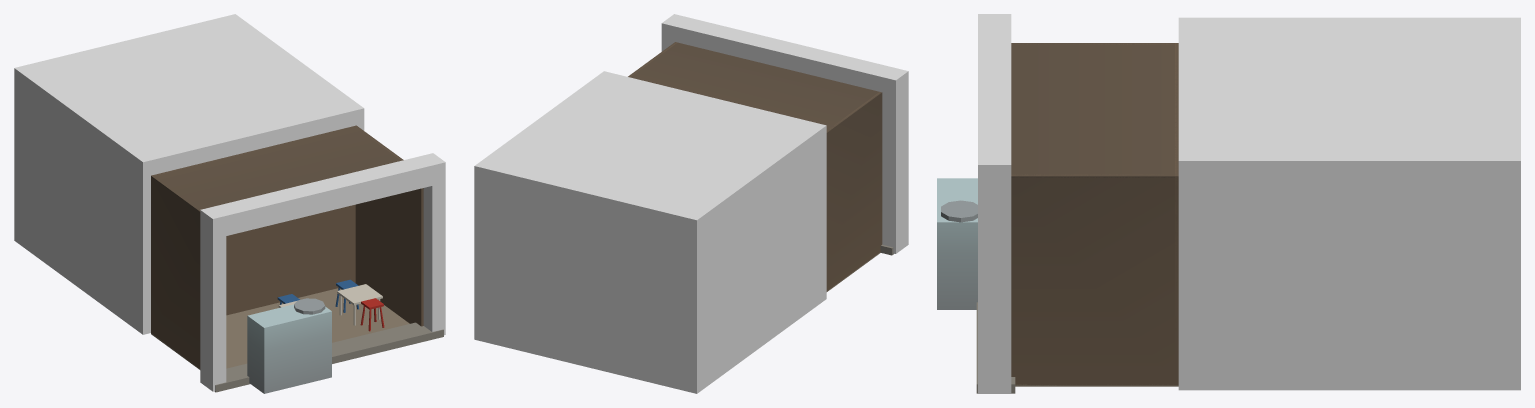
Rendered from tret_quan_pho_48.glb.
The picture shows the model from 3 angles, left to right: view 1: azimuth 30°, elevation 25°; view 2: azimuth 150°, elevation 25°; view 3: azimuth 270°, elevation 25°; orthographic projection. The views are drawn at different scales.
Visible parts, largest first — view 1: tret_quan_pho_48; view 2: tret_quan_pho_48; view 3: tret_quan_pho_48.
Part boxes in pixels (bbox=[...]): tret_quan_pho_48: bbox=[14, 14, 445, 393]; tret_quan_pho_48: bbox=[474, 14, 908, 393]; tret_quan_pho_48: bbox=[937, 14, 1520, 393].
Bounding box in the file's own units: 4.8 × 3.42 × 7.85.
